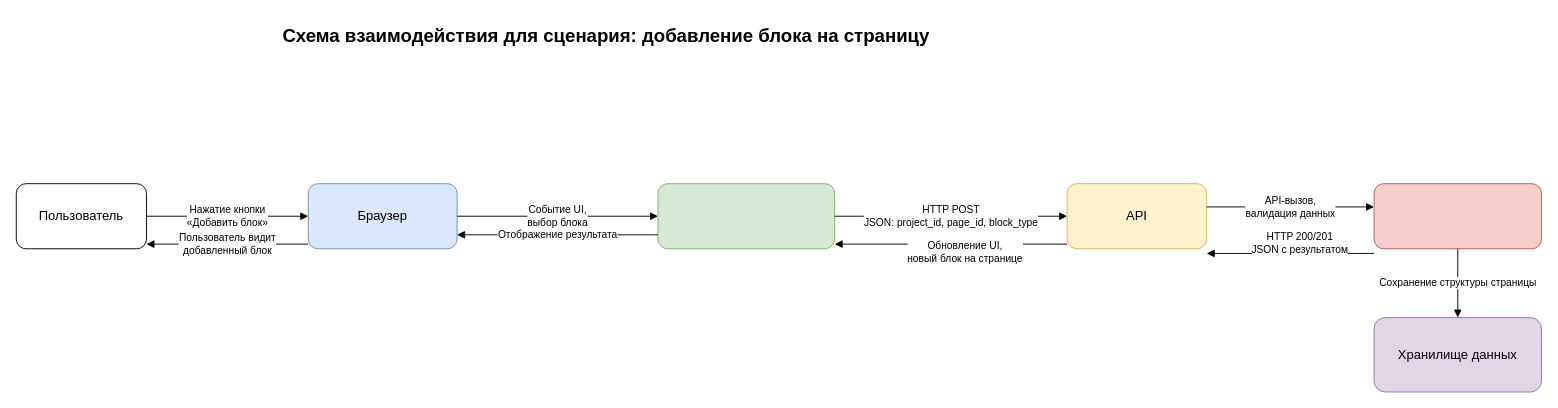
The diagram is 1558 pixels wide and 408 high, and some of its shapes have lost their labels. The box of each missing label's shape, as (x1, y1, x2, y2) in pixels:
Backend: (1373, 183, 1541, 249)
Frontend (редактор страницы): (657, 183, 835, 249)
